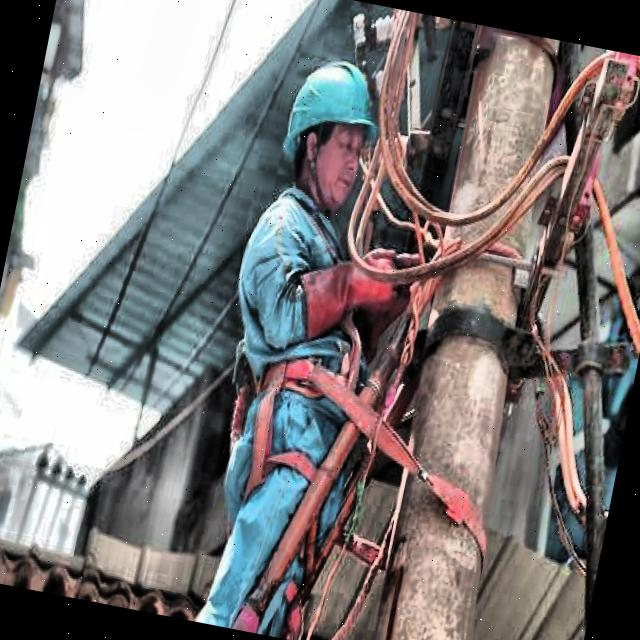helmet: (265, 36, 401, 225)
